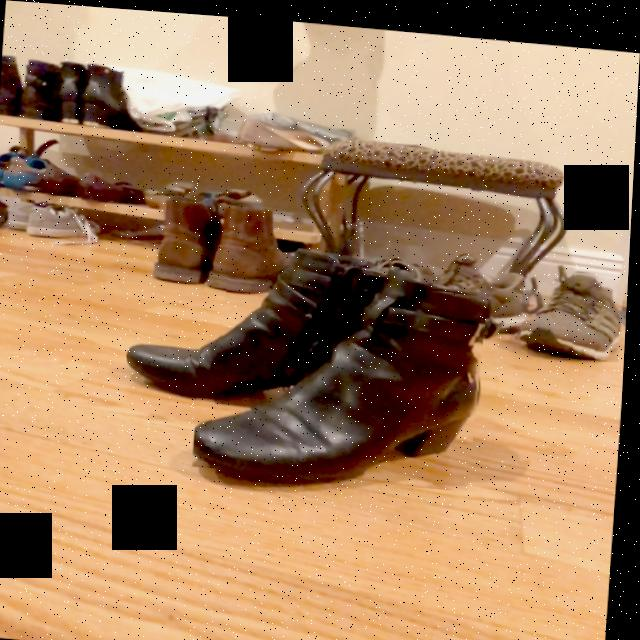shoe: (197, 277, 484, 473), (519, 261, 624, 351)
